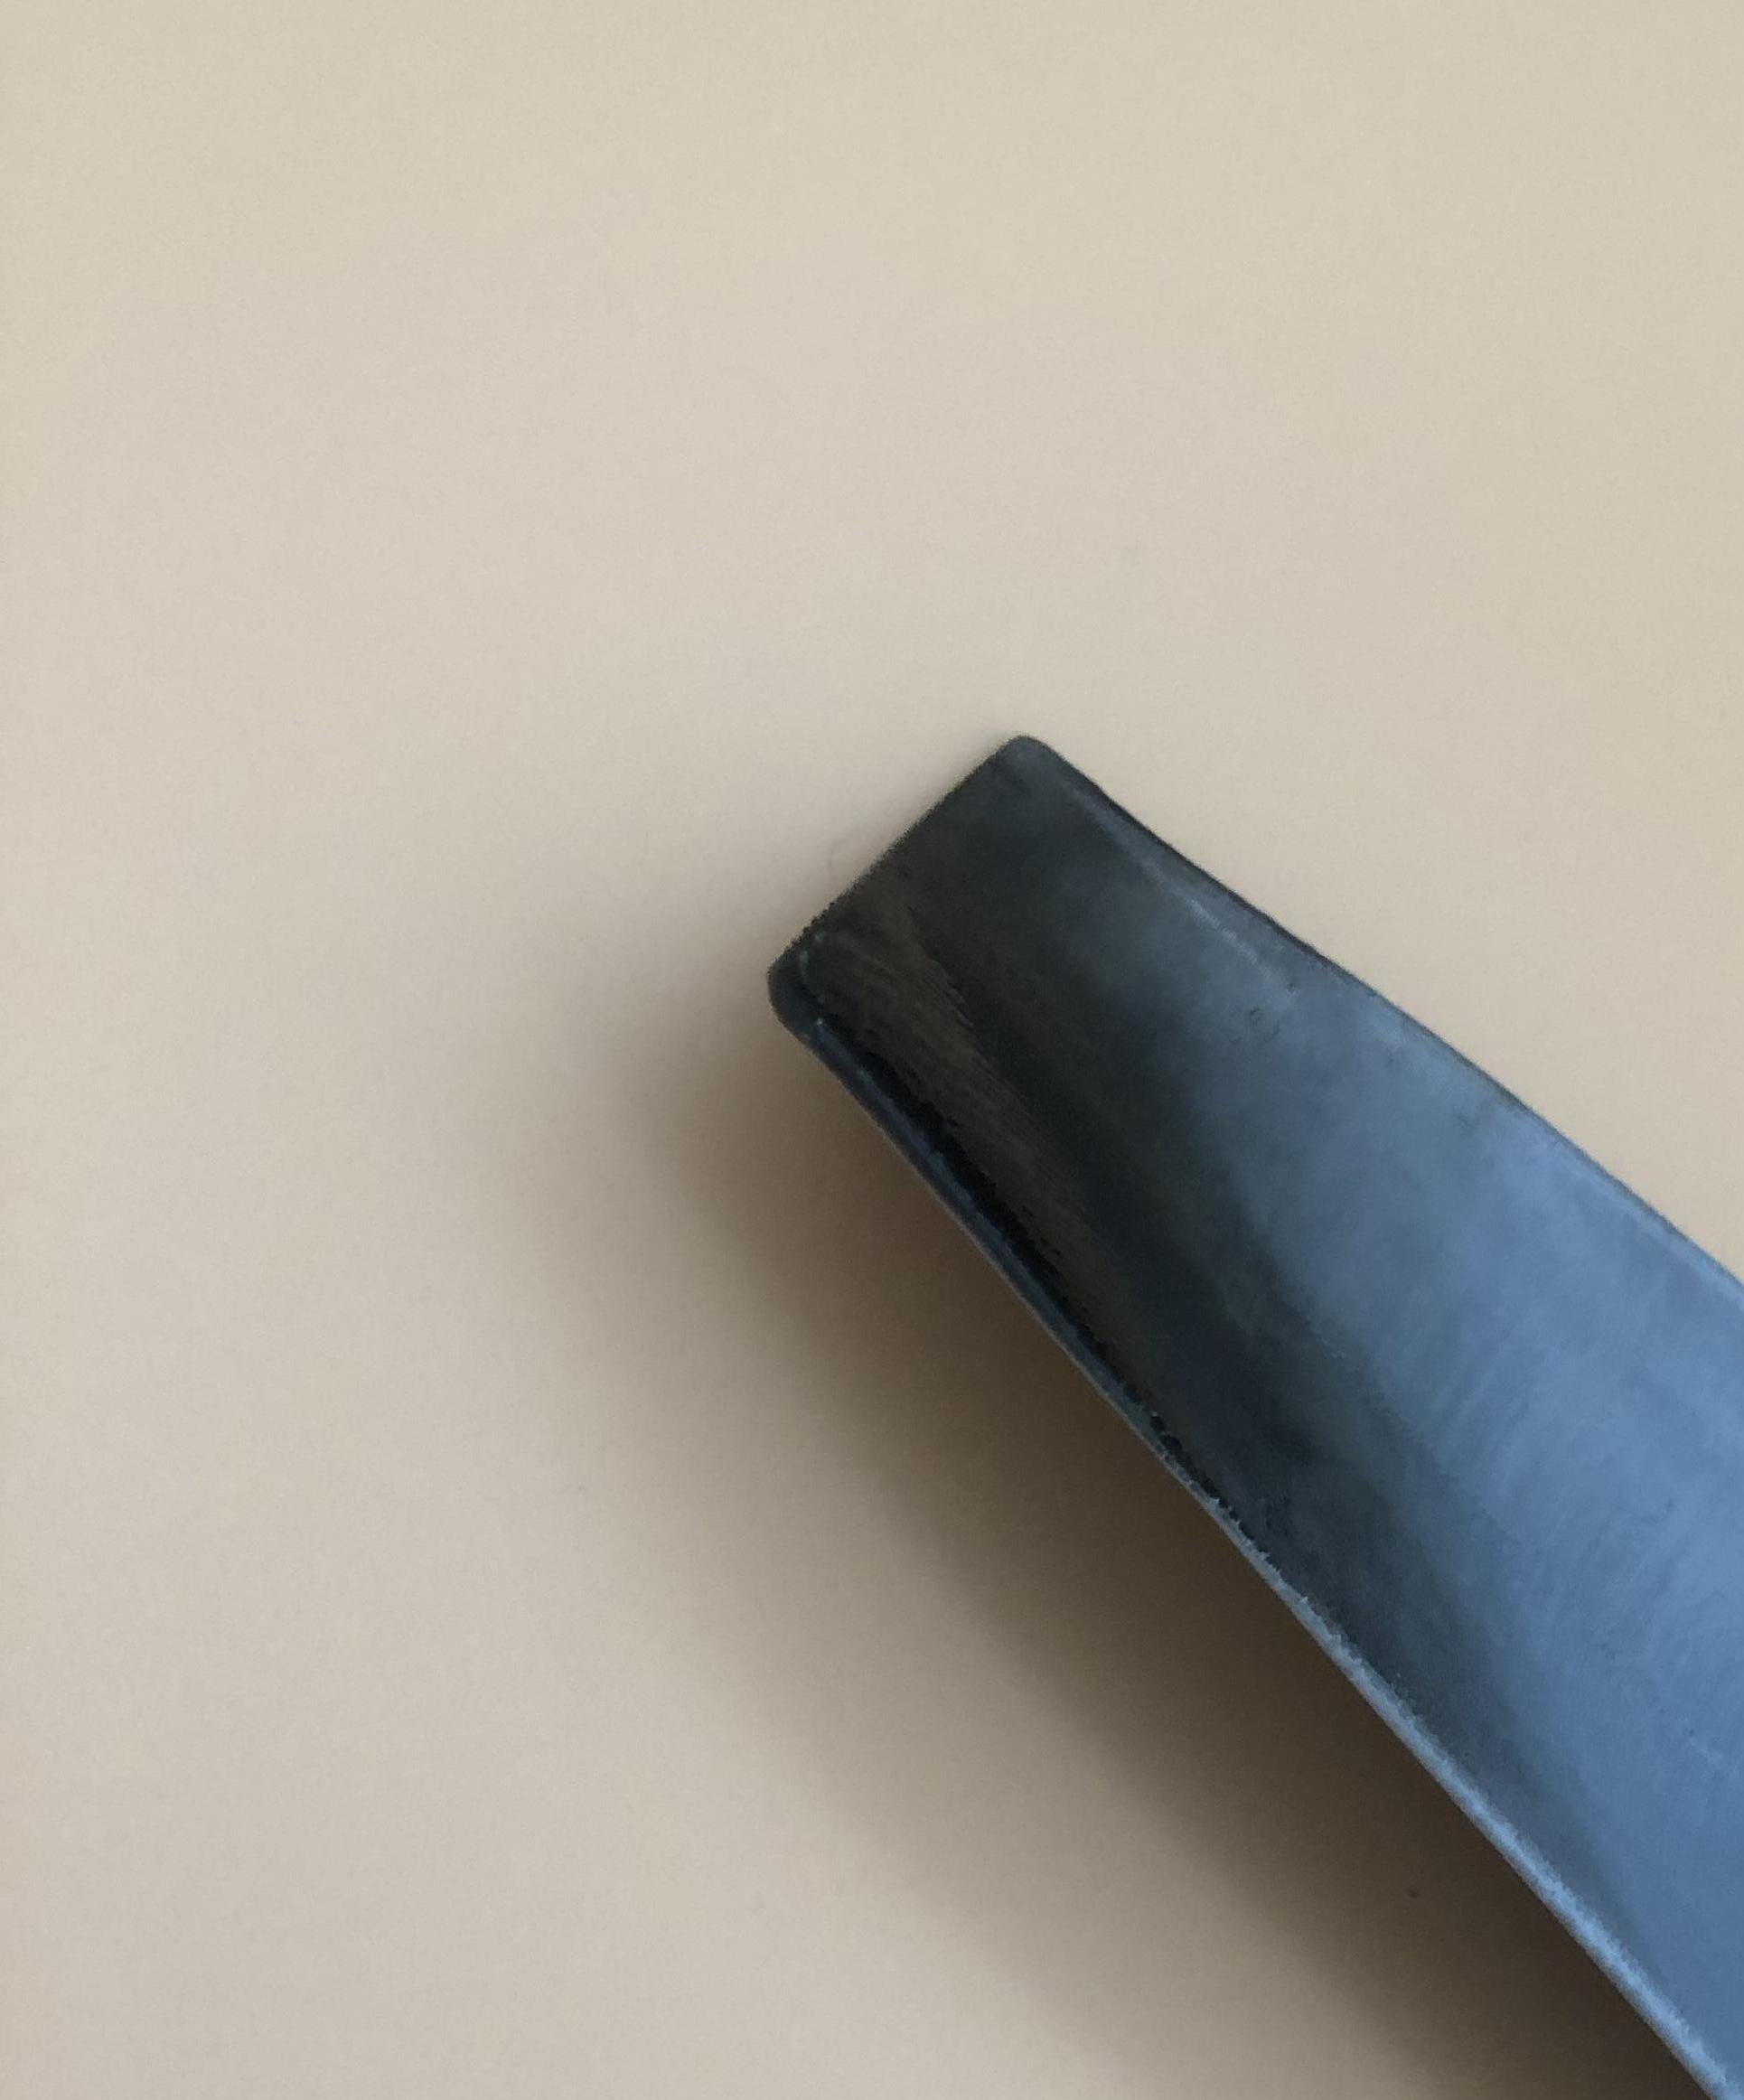ablation: (853, 863, 1301, 1418)
